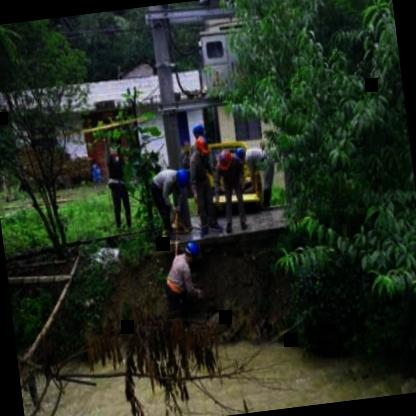helmet: (216, 146, 235, 173), (192, 133, 210, 161), (180, 238, 200, 263), (171, 166, 190, 188), (234, 144, 249, 164)
